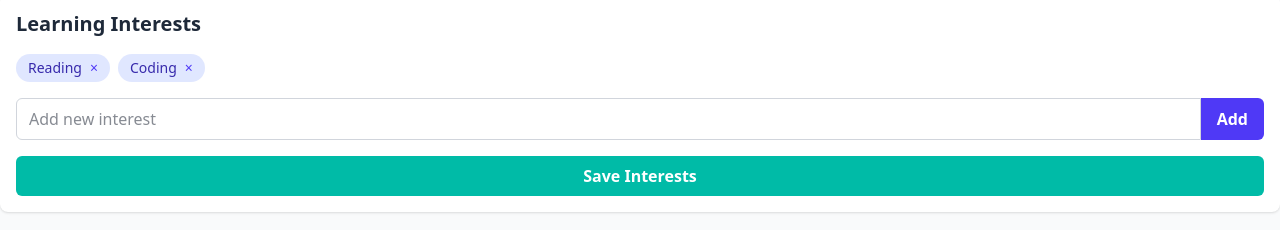
LearningInterestsForm › allows adding a new interest
In the field with placeholder "Add new interest": x=608, y=119 x1=16 y1=98 x2=1201 y2=140, type "Writing"
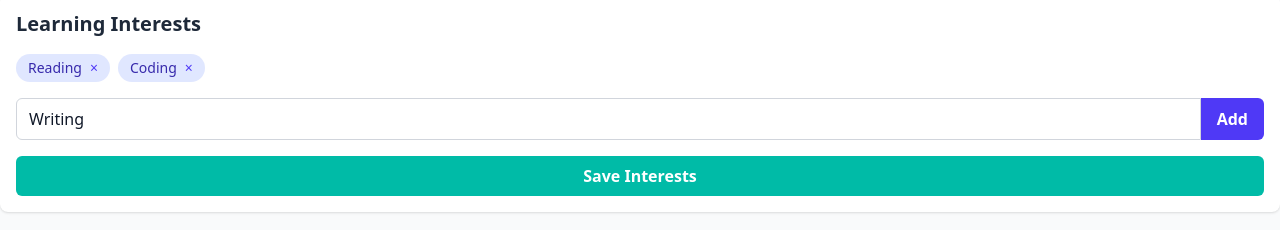
Click the button "Add": x=1232, y=119 x1=1201 y1=98 x2=1264 y2=140
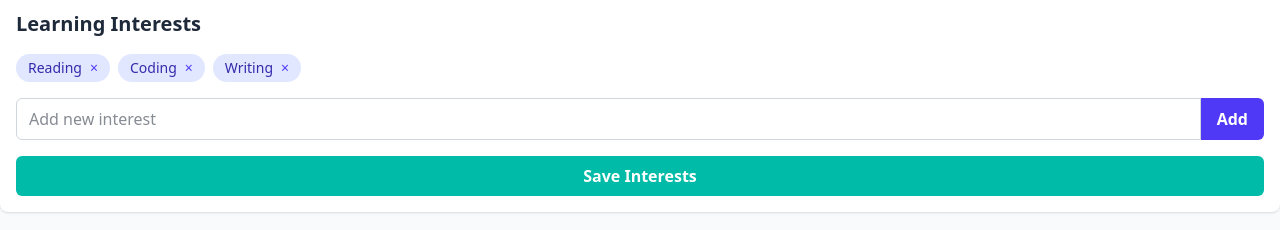
Now the text "Writing" is shown, box x1=225 y1=58 x2=273 y2=77
Now the field with placeholder "Add new interest" is empty, box x1=16 y1=98 x2=1201 y2=140
